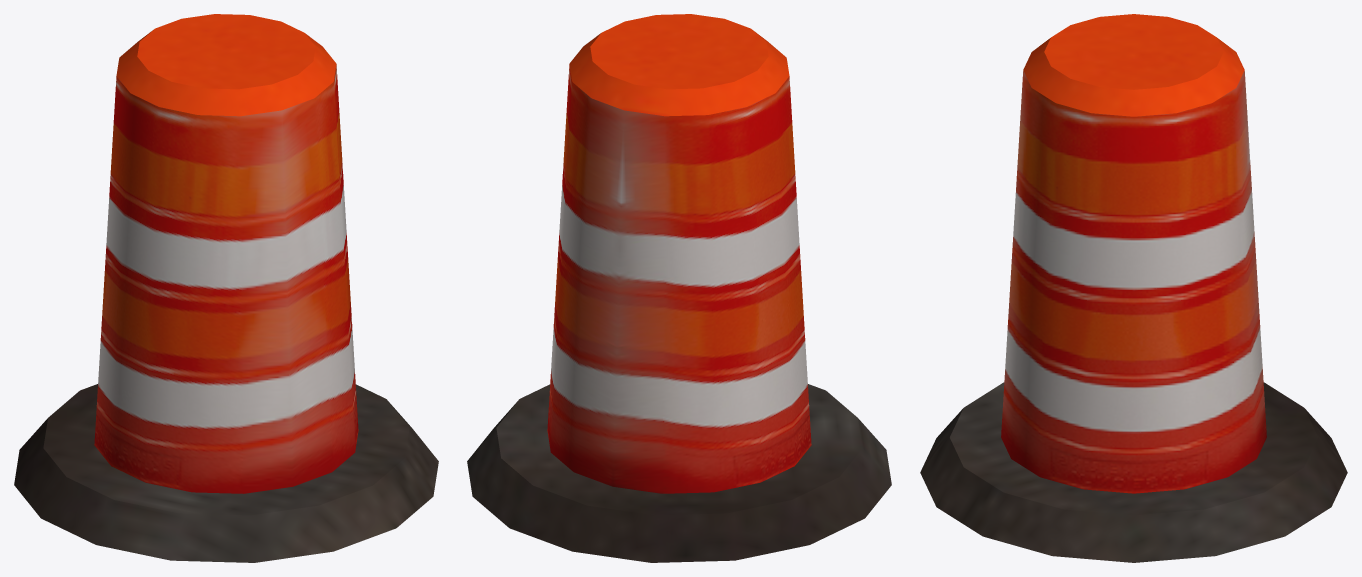
Rendered from traffic-druim.fbx.
The picture shows the model from 3 angles, left to right: view 1: azimuth 30°, elevation 25°; view 2: azimuth 150°, elevation 25°; view 3: azimuth 270°, elevation 25°; orthographic projection.
Visible parts, largest first — view 1: Plane.063; view 2: Plane.063; view 3: Plane.063.
Part boxes in pixels (x1,y1,x2,y2): Plane.063: [14, 14, 438, 562]; Plane.063: [467, 14, 891, 562]; Plane.063: [920, 14, 1347, 562].
Bounding box in the file's own units: 160 × 174 × 160.
